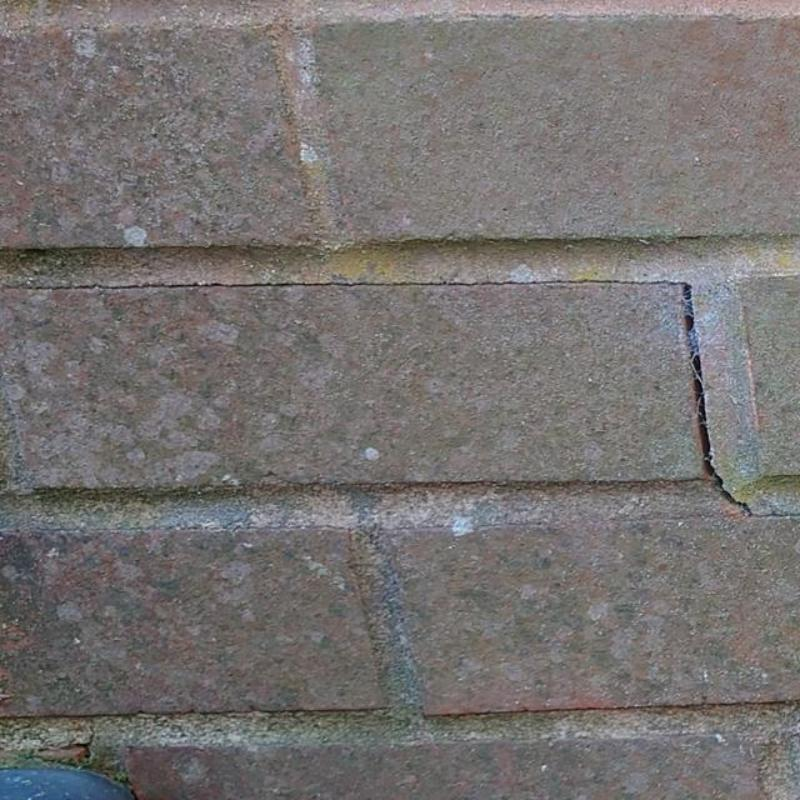pothole: (0, 271, 692, 294), (685, 286, 752, 514), (748, 512, 799, 519)
